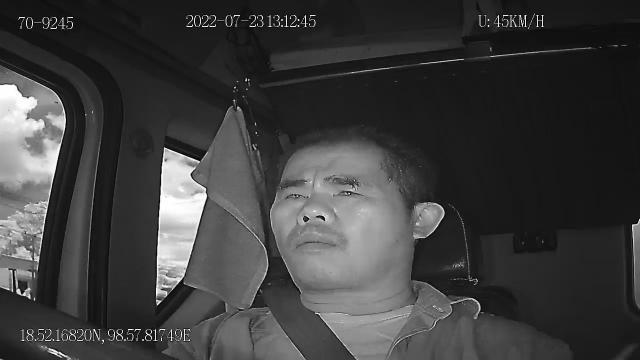SafeDriving: (326, 178, 366, 202), (278, 182, 312, 206)
Seatbelt: (260, 280, 360, 360)
